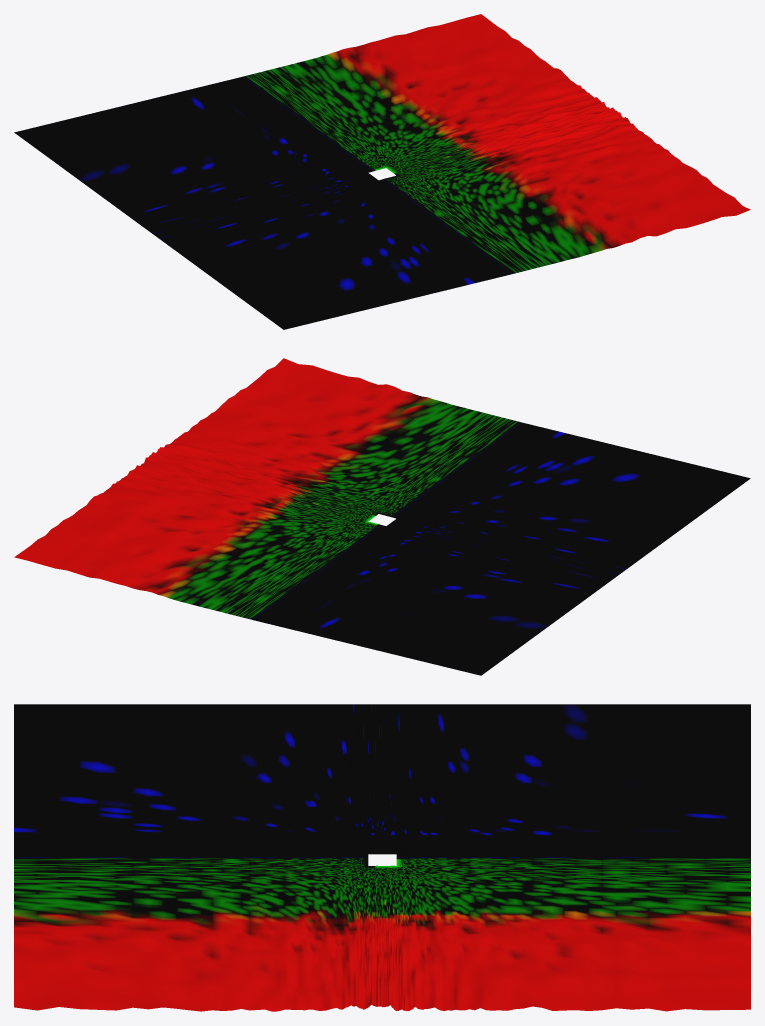
The model's file is SM_JeddahCorniche_Backdrop.fbx.
3 views of the same model, one above another, from view 1: azimuth 30°, elevation 25°; view 2: azimuth 150°, elevation 25°; view 3: azimuth 270°, elevation 25° (orthographic). The views are drawn at different scales.
Visible parts, largest first — view 1: SM_JeddahCorniche_Backdrop; view 2: SM_JeddahCorniche_Backdrop; view 3: SM_JeddahCorniche_Backdrop.
Boxes of the visible parts, x1=… form: SM_JeddahCorniche_Backdrop: x1=14, y1=14, x2=750, y2=329; SM_JeddahCorniche_Backdrop: x1=14, y1=358, x2=750, y2=675; SM_JeddahCorniche_Backdrop: x1=14, y1=704, x2=750, y2=1011.
Size of the model in its own units: 5040346 by 85538 by 5040346.
